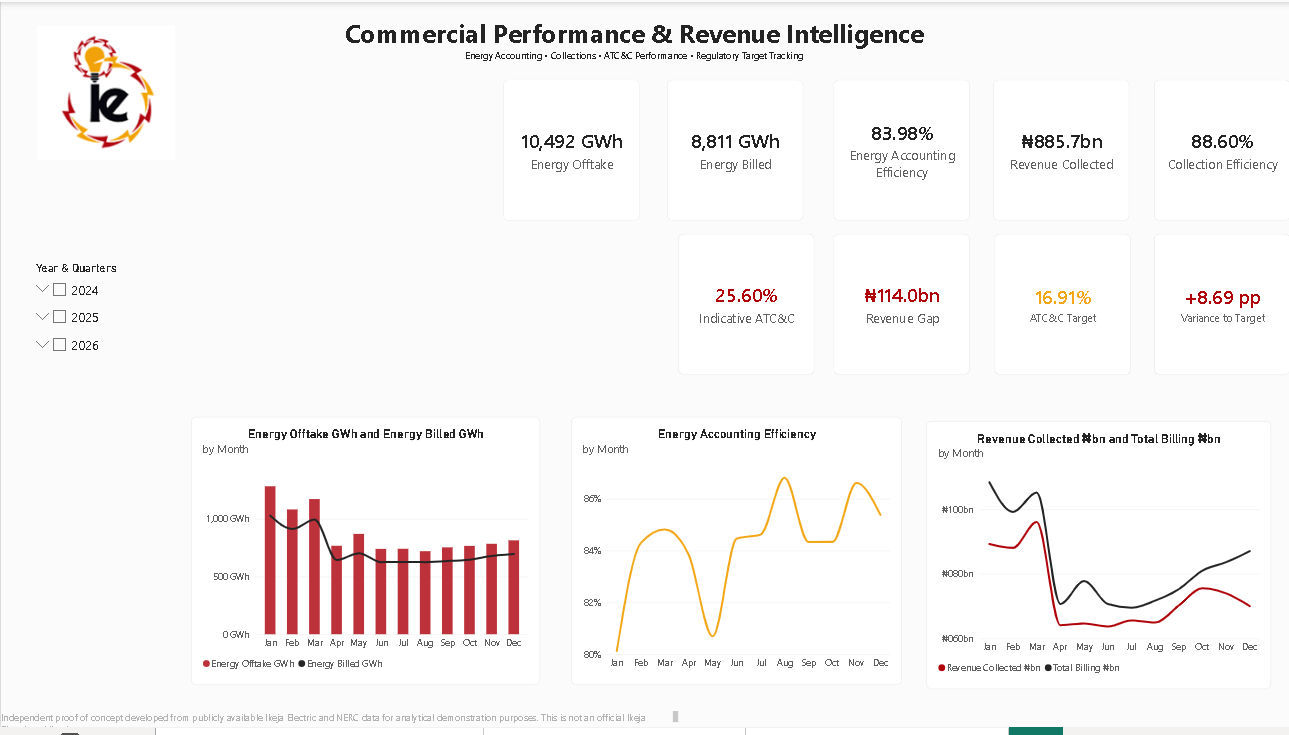

This screenshot's page, from the dashboard's own definition file:
{"tool":"powerbi","page":{"name":"Executive Commercial Performance","canvas":[1920,1080],"ordinal":0},"visuals":[{"type":"cardVisual","fields":{"Data":["Commercial Performance.Energy Offtake GWh"]},"box":[747.1,116,203,210],"z":0},{"type":"cardVisual","fields":{"Data":["Commercial Performance.Energy Billed GWh"]},"box":[992.4,116,203,210],"z":1000},{"type":"cardVisual","fields":{"Data":["Commercial Performance.Energy Accounting Efficiency"]},"box":[1240,116,203,210],"z":2000},{"type":"cardVisual","fields":{"Data":["Commercial Performance.Revenue Collected ₦bn"]},"box":[1476.4,116,203,210],"z":3000},{"type":"cardVisual","fields":{"Data":["Commercial Performance.Collection Efficiency"]},"box":[1717.3,116,203,210],"z":4000},{"type":"cardVisual","fields":{"Data":["Commercial Performance.Indicative ATC&C"]},"box":[1008.1,345.7,203,210.1],"z":5000},{"type":"cardVisual","fields":{"Data":["Commercial Performance.Revenue Gap ₦bn"]},"box":[1240,345.7,203,210.1],"z":6000},{"type":"cardVisual","fields":{"Data":["FactATC.ATC&C Variance to Target"]},"box":[1717.3,345.7,203,210.1],"z":7000},{"type":"lineChart","fields":{"Category":["DimDate.Month"],"Y":["Commercial Performance.Revenue Collected ₦bn","Commercial Performance.Total Billing ₦bn"]},"box":[1378.3,624.5,512.9,399.2],"z":8000},{"type":"lineChart","fields":{"Y":["Commercial Performance.Energy Accounting Efficiency"],"Category":["DimDate.Month"]},"box":[849.7,617.8,492,399],"z":9000},{"type":"lineStackedColumnComboChart","fields":{"Y":["Commercial Performance.Energy Offtake GWh"],"Y2":["Commercial Performance.Energy Billed GWh"],"Category":["DimDate.Month"]},"box":[283.2,617.8,519.6,399.2],"z":10000},{"type":"slicer","fields":{"Values":["DimDate.Year","DimDate.Quarter"]},"box":[42.4,385.8,225.3,231.9],"z":11000},{"type":"cardVisual","fields":{"Data":["FactATC.ATC&C Target"]},"box":[1478.6,345.7,203,210.1],"z":12000},{"type":"textbox","box":[93.7,20.1,1699.4,69.1],"z":13000},{"type":"image","box":[53.5,35.7,205.2,200.7],"z":14000},{"type":"textbox","box":[0,1054.9,1008.1,24.5],"z":15000}]}

Visuals, with their boxes in screenshot pixels (x1, y1, x2, y2), scaled from the page's 1920x1080 canvas onto the 1289x735 screenshot:
cardVisual - Commercial Performance.Energy Offtake GWh: (502,79,638,222)
cardVisual - Commercial Performance.Energy Billed GWh: (666,79,803,222)
cardVisual - Commercial Performance.Energy Accounting Efficiency: (832,79,969,222)
cardVisual - Commercial Performance.Revenue Collected ₦bn: (991,79,1127,222)
cardVisual - Commercial Performance.Collection Efficiency: (1153,79,1288,222)
cardVisual - Commercial Performance.Indicative ATC&C: (677,235,813,378)
cardVisual - Commercial Performance.Revenue Gap ₦bn: (832,235,969,378)
cardVisual - FactATC.ATC&C Variance to Target: (1153,235,1288,378)
lineChart - DimDate.Month x Commercial Performance.Revenue Collected ₦bn: (925,425,1270,697)
lineChart - Commercial Performance.Energy Accounting Efficiency x DimDate.Month: (570,420,901,692)
lineStackedColumnComboChart - Commercial Performance.Energy Offtake GWh x Commercial Performance.Energy Billed GWh: (190,420,539,692)
slicer - DimDate.Year x DimDate.Quarter: (28,263,180,420)
cardVisual - FactATC.ATC&C Target: (993,235,1129,378)
textbox: (63,14,1204,61)
image: (36,24,174,161)
textbox: (0,718,677,734)
